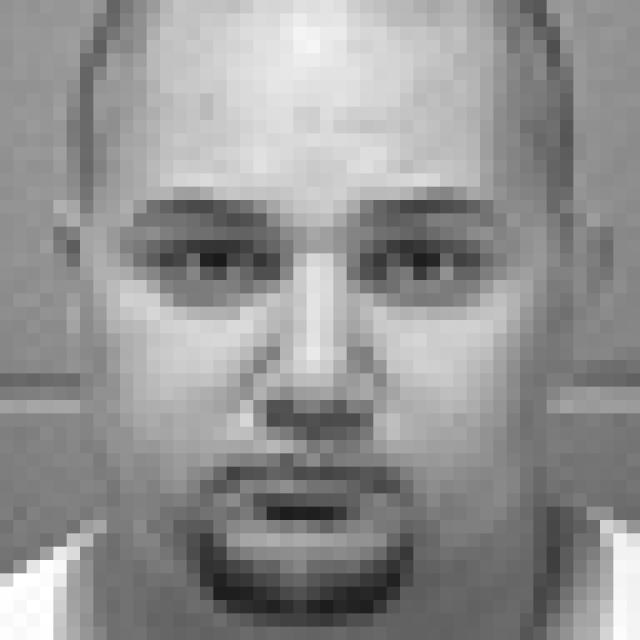neutral: (111, 174, 520, 533)
